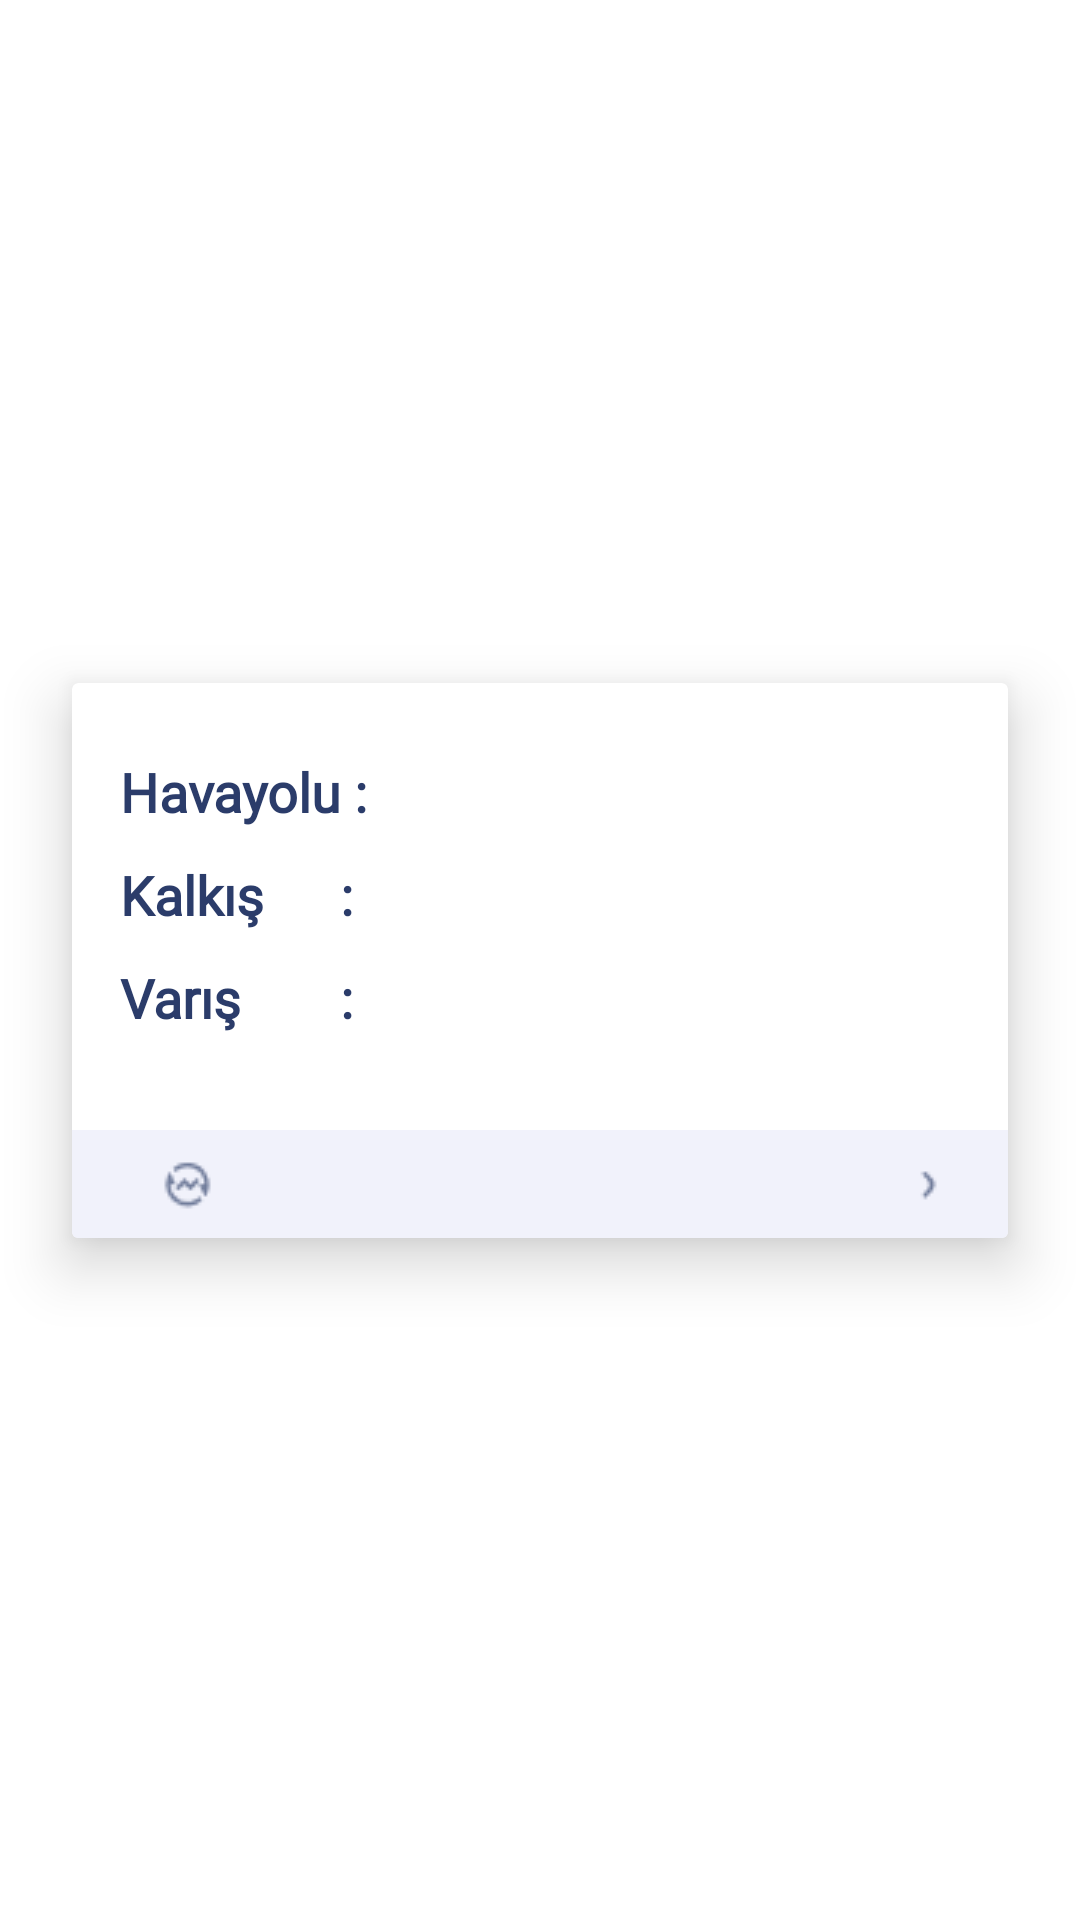

Point at icon controls on the screen. Image size 1080*1920, points as point (x, y).
arrow right: point (928, 1185)
delay: point (187, 1185)
